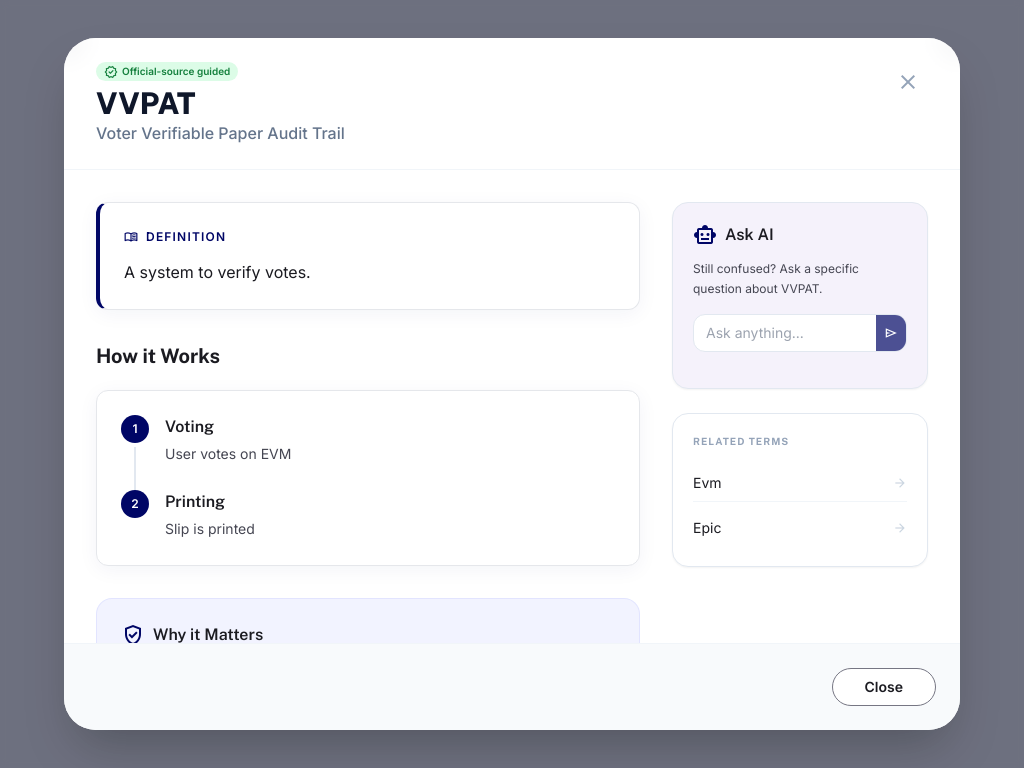
Test: GlossaryModal › handles AI error gracefully
Type "test question" into the field with placeholder "Ask anything...". click: (785, 333)
box: 694,315 -> 876,351
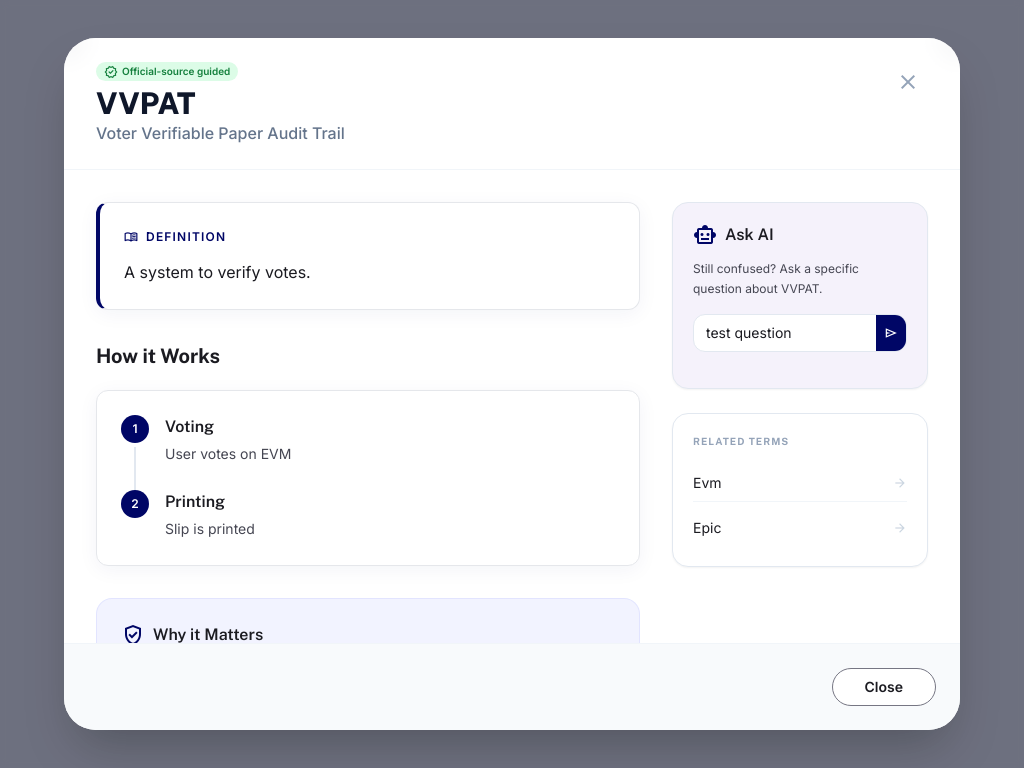
Click the button named "send". click: (891, 333)
box: 876,315 -> 906,351
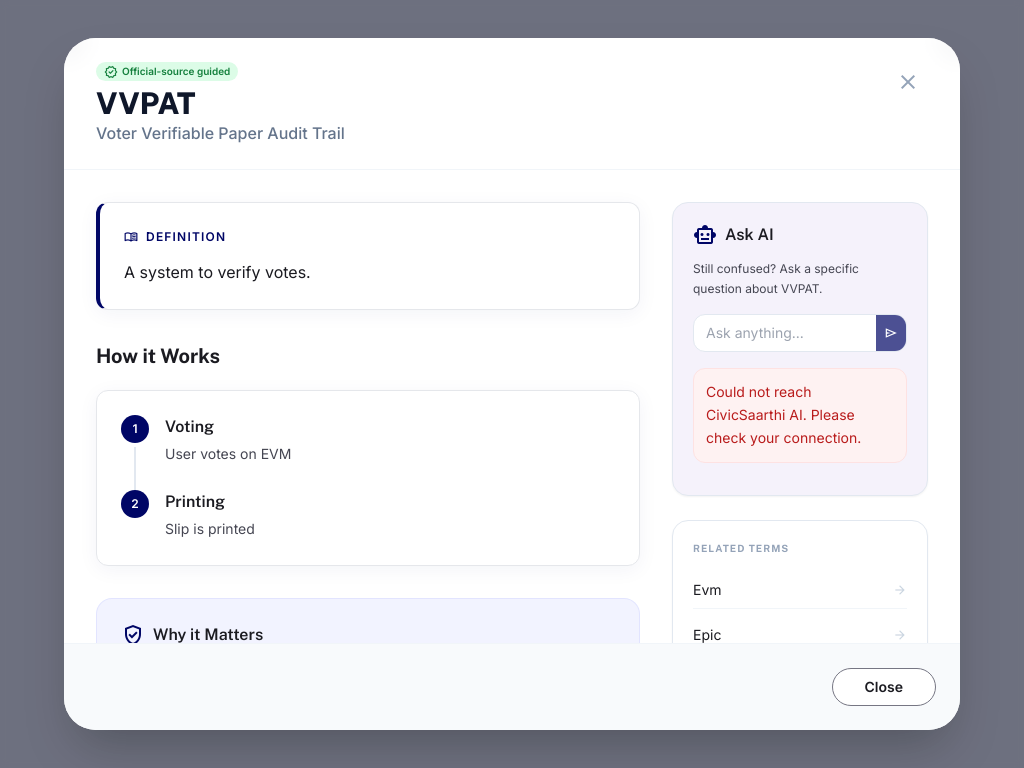
Expected: the text "Could not reach CivicSaarthi AI" is shown, 706,383 -> 861,446
